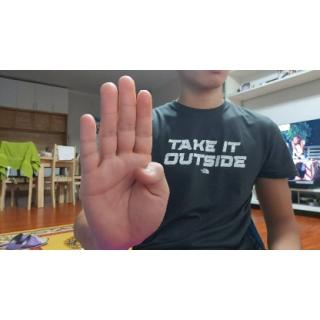KAAF: (76, 70, 172, 253)
